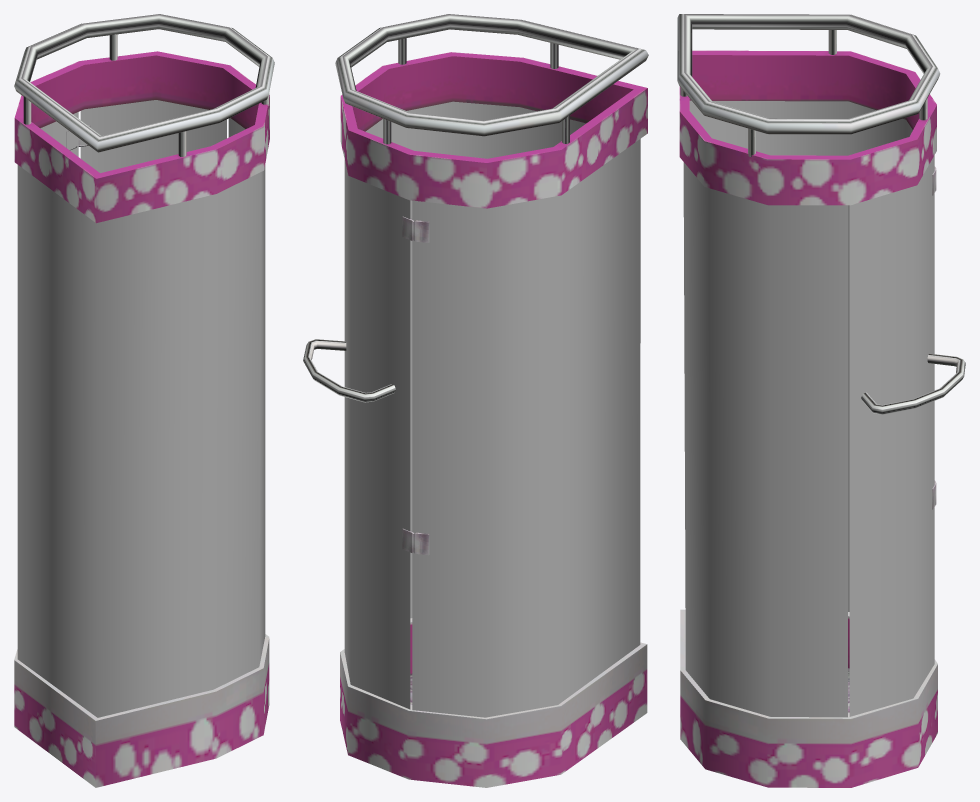
File: furni_0200526_01.FBX
The picture shows the model from 3 angles, left to right: view 1: azimuth 30°, elevation 25°; view 2: azimuth 150°, elevation 25°; view 3: azimuth 270°, elevation 25°; orthographic projection. The views are drawn at different scales.
Parts seen in each view (by area): view 1: furni_0200526_01; view 2: furni_0200526_01; view 3: furni_0200526_01.
Part boxes in pixels (x1,y1,x2,y2): furni_0200526_01: [14, 14, 274, 787]; furni_0200526_01: [303, 14, 648, 787]; furni_0200526_01: [677, 14, 965, 787].
Bounding box in the file's own units: 76.92 × 203 × 79.46.
